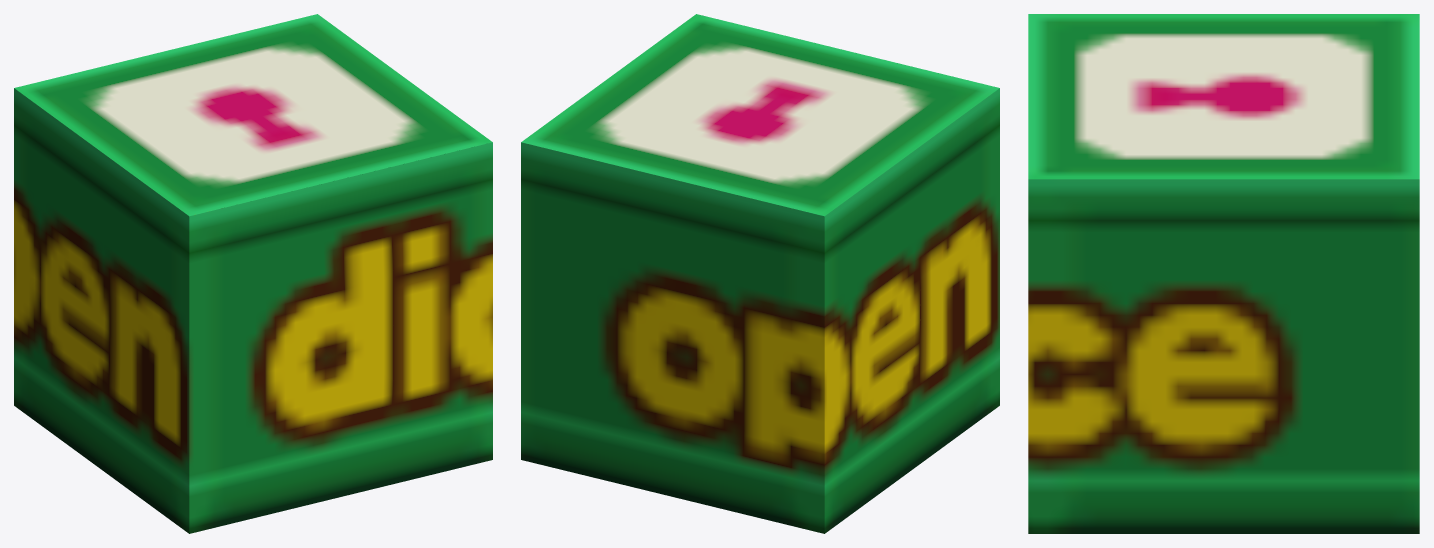
File: icon_b1.ico.obj
3 renders of one model, left to right at view 1: azimuth 30°, elevation 25°; view 2: azimuth 150°, elevation 25°; view 3: azimuth 270°, elevation 25°, orthographic. The views are drawn at different scales.
Size of the model in its own units: 2.5 by 2.5 by 2.5.
Materials: 1 (1 with a texture image).
